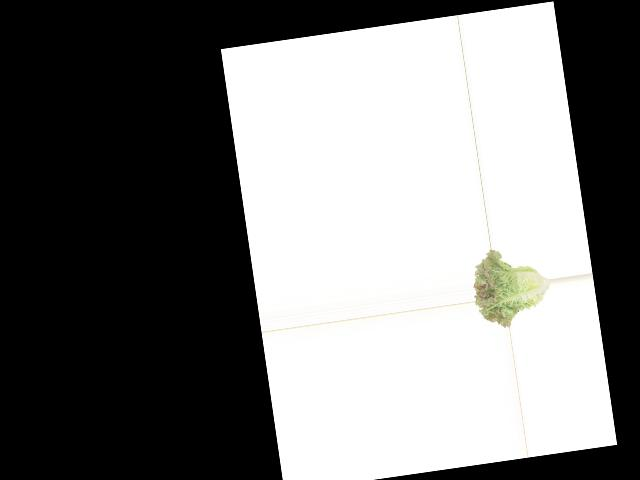lettuce: (468, 242, 554, 330)
